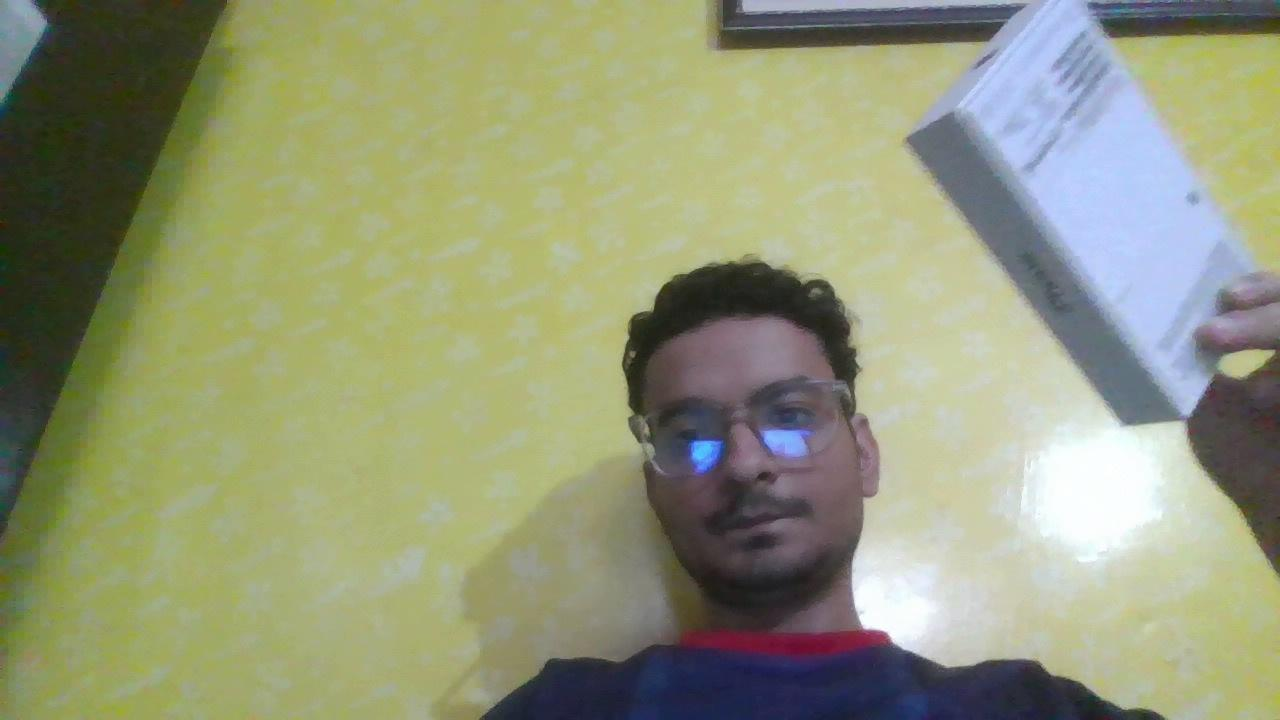Phone: (902, 0, 1257, 433)
